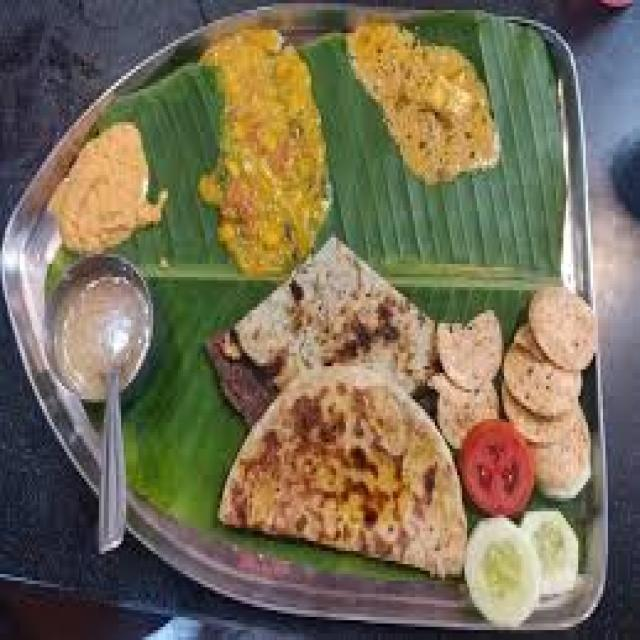roti: (219, 290, 459, 574)
sambar-rasam: (33, 246, 158, 402)
veg-fry: (193, 23, 331, 280)
